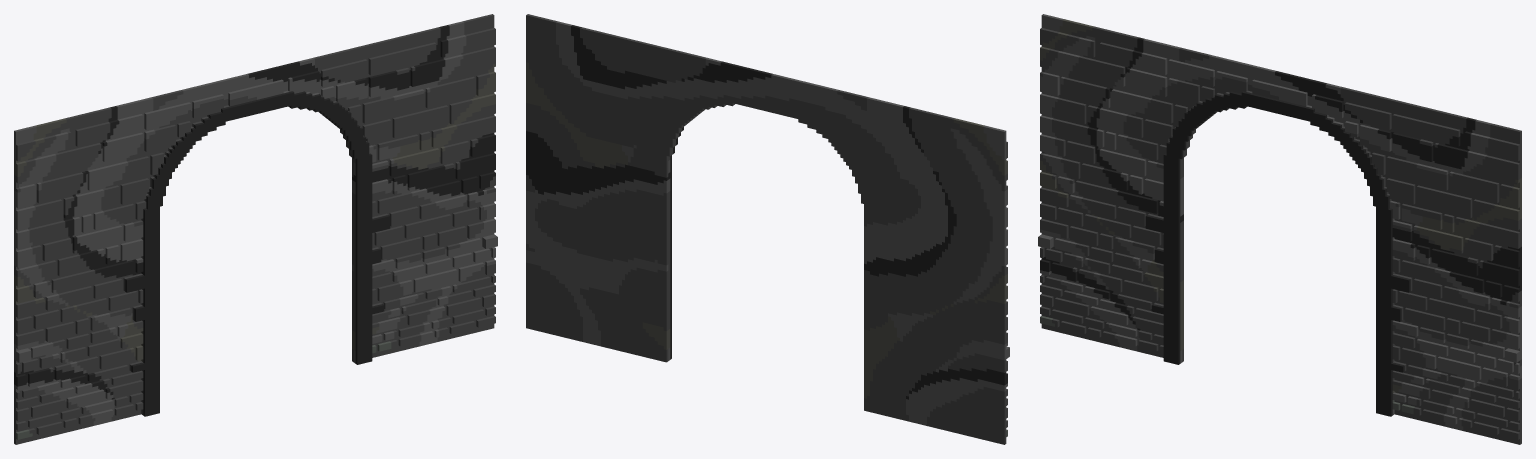
Rendered from Menu-7.obj.
The picture shows the model from 3 angles, left to right: view 1: azimuth 30°, elevation 25°; view 2: azimuth 150°, elevation 25°; view 3: azimuth 330°, elevation 25°; orthographic projection.
Size of the model in its own units: 16 by 10 by 0.3.
1 material, 1 textured.
